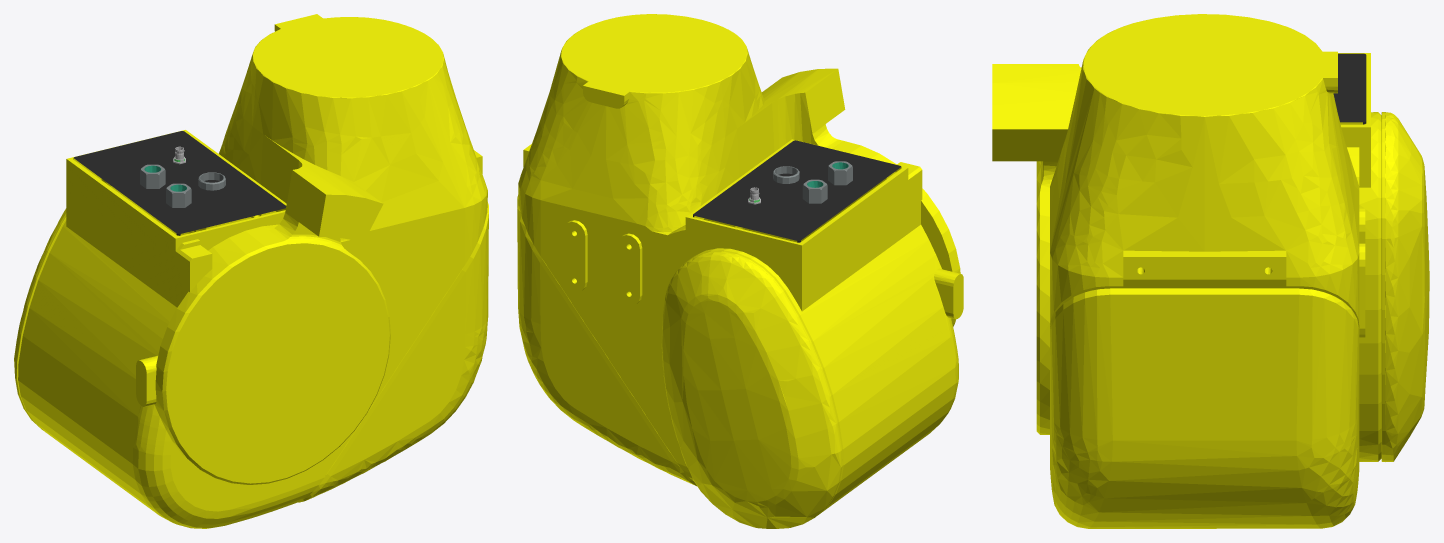
3 views of the same model, side by side, from view 1: azimuth 30°, elevation 25°; view 2: azimuth 150°, elevation 25°; view 3: azimuth 270°, elevation 25° (orthographic). The views are drawn at different scales.
Parts seen in each view (by area): view 1: node; view 2: node; view 3: node.
Part boxes in pixels (x1,y1,x2,y2): node: (14, 14, 488, 528); node: (517, 14, 963, 528); node: (992, 14, 1429, 528).
Bounding box in the file's own units: 456 × 465 × 371.
